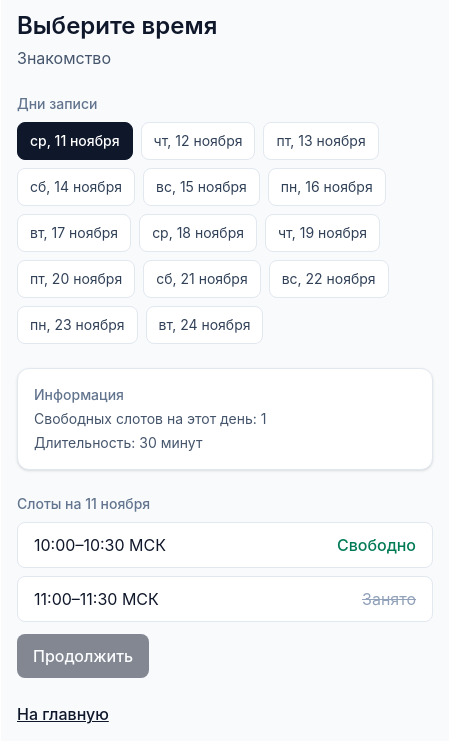
Test: Страница записи › после выбора другого дня показывает его слоты
Click the button "чт, 12 ноября" at (198, 141), box top-left (141, 122), bottom-right (256, 160)
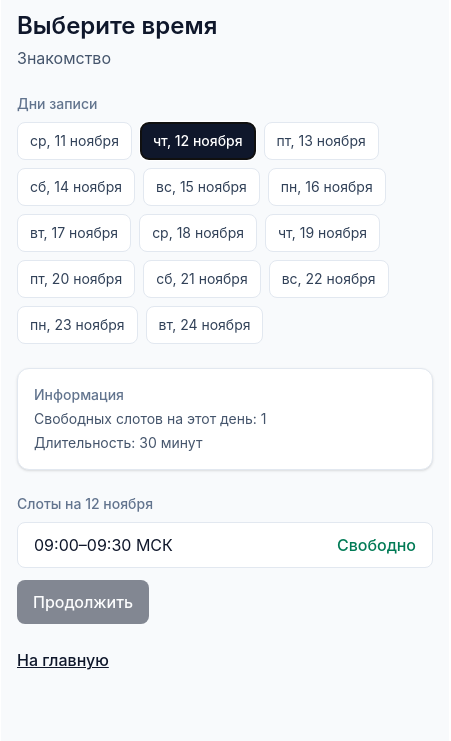
Check: the text "09:00–09:30 МСК" is shown, box top-left (34, 533), bottom-right (173, 557)
Check: the button "10:00–10:30 МСК" is gone
